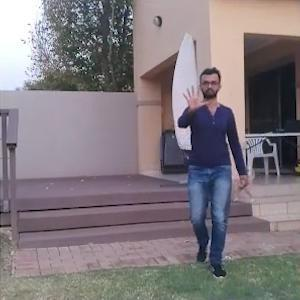follow_hand: (179, 79, 212, 117)
